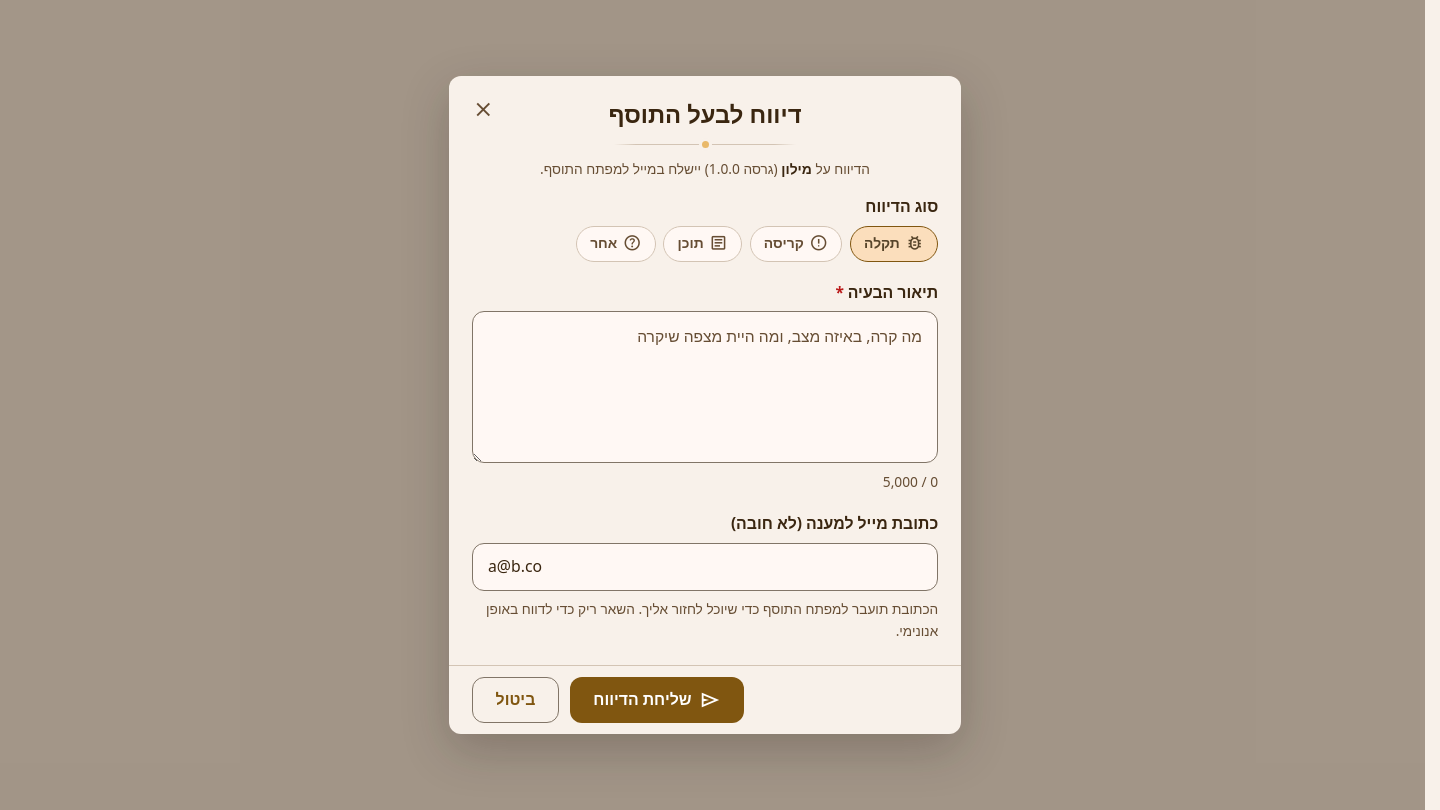
PluginReportModal › שגיאת שרת (429) — הודעה בחלון עצמו, role="alert"
The image size is (1440, 810).
Type "x" into the text box labelled "תיאור הבעיה" at [705, 387], box x1=472 y1=311 x2=938 y2=463
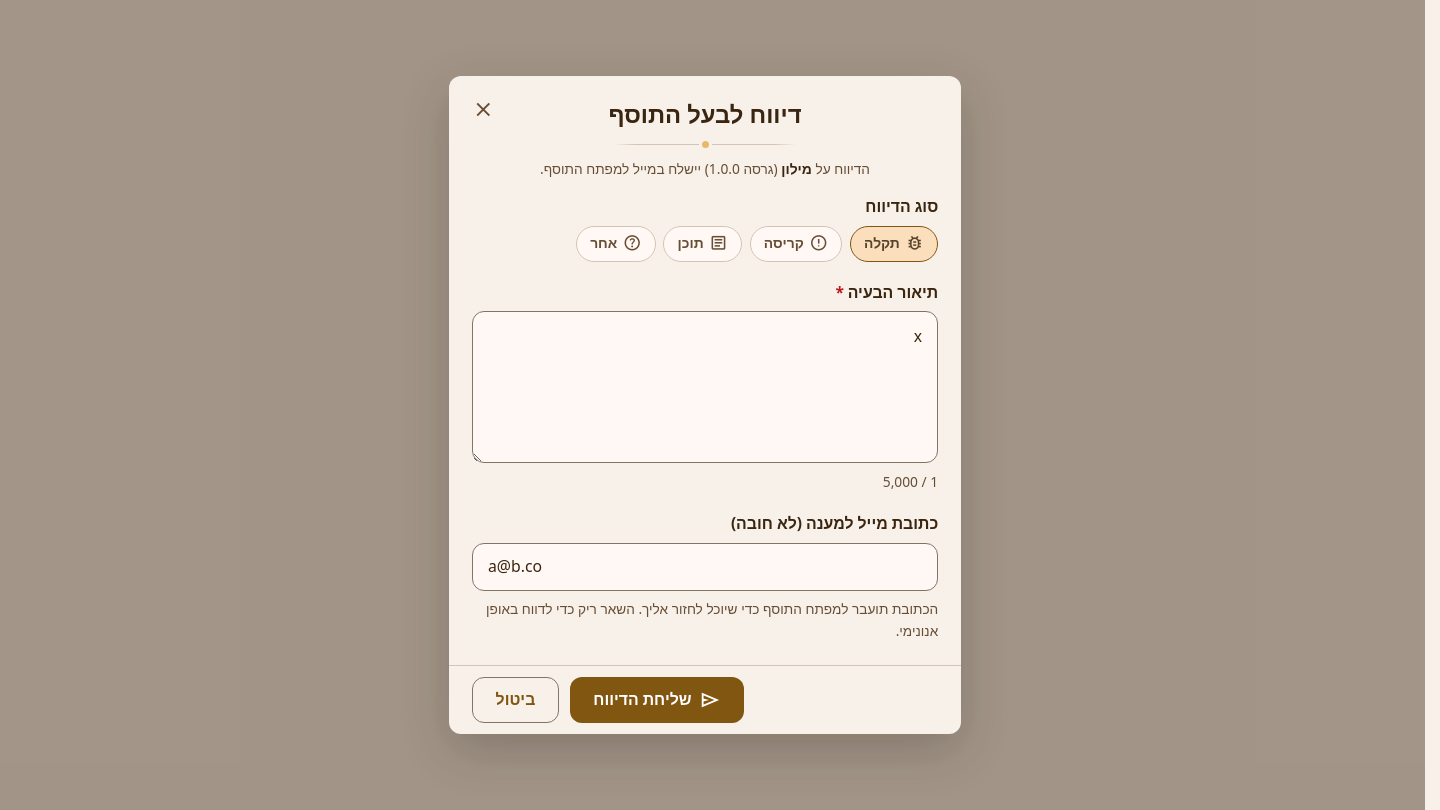
Submit the form, box x1=472 y1=195 x2=938 y2=642
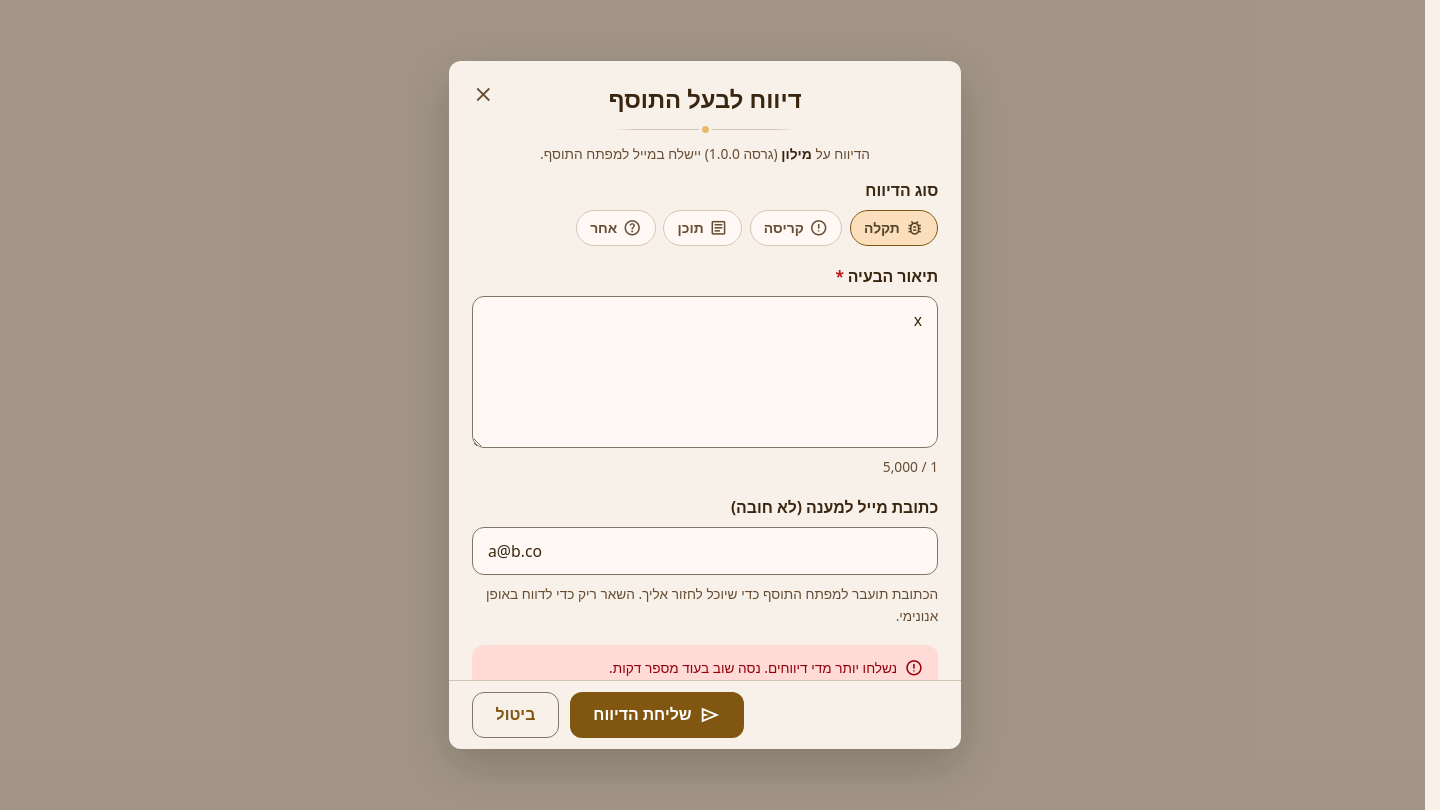
Expected: the message reads "נשלחו יותר מדי דיווחים. נסה שוב בעוד מספר דקות.", x1=609 y1=658 x2=897 y2=677
